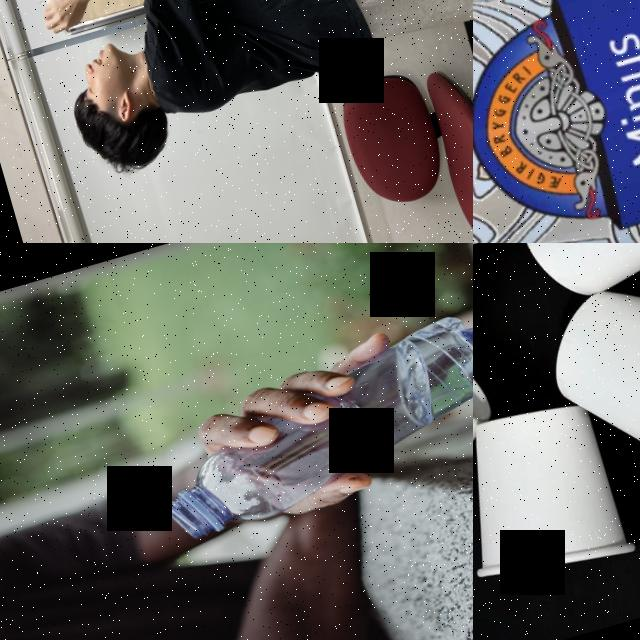bottle: (130, 296, 473, 544)
can: (473, 0, 640, 243)
cup: (473, 387, 637, 595), (536, 249, 640, 505)
